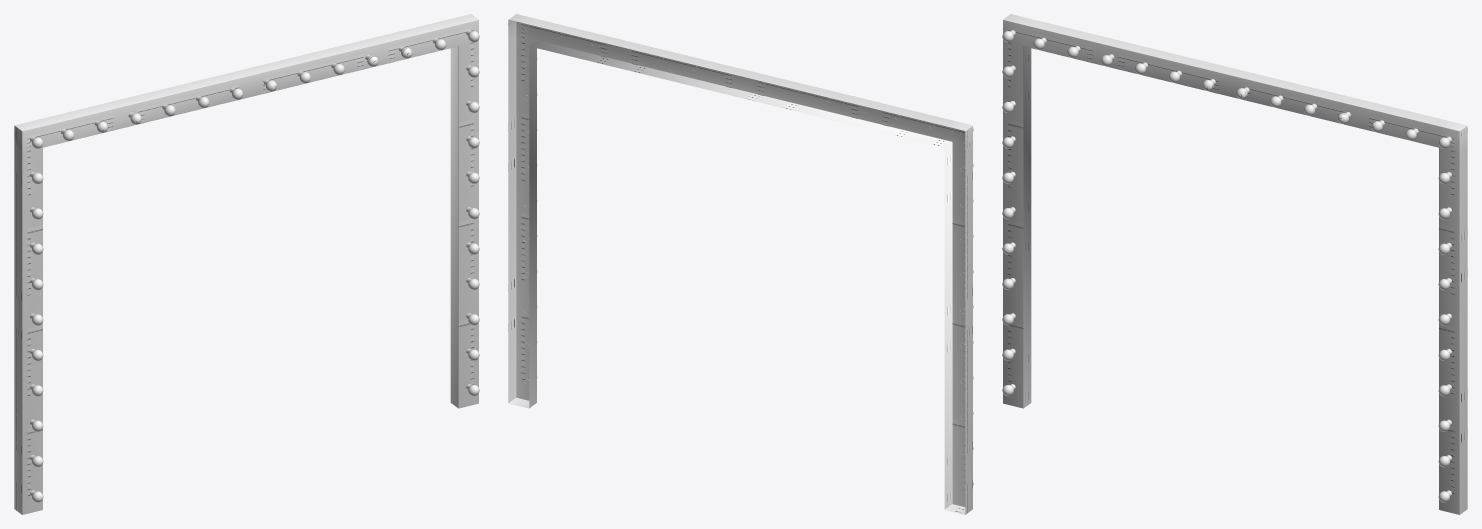
Rendered from DoorFrameLight04_1.FBX.
The picture shows the model from 3 angles, left to right: view 1: azimuth 30°, elevation 25°; view 2: azimuth 150°, elevation 25°; view 3: azimuth 330°, elevation 25°; orthographic projection.
Parts seen in each view (by area): view 1: Light04_1; view 2: Light04_1; view 3: Light04_1.
Part boxes in pixels (bbox=[...]): Light04_1: bbox=[14, 14, 479, 514]; Light04_1: bbox=[508, 14, 973, 514]; Light04_1: bbox=[1002, 14, 1467, 514].
Bounding box in the file's own units: 330 × 265 × 19.54.
